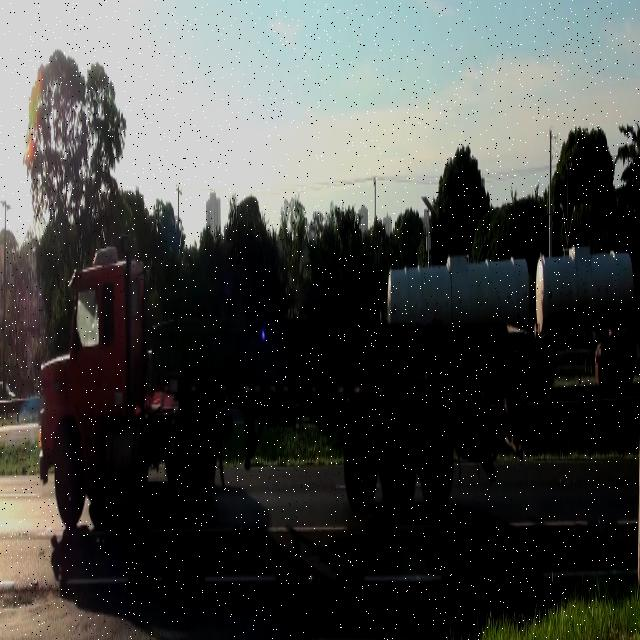-axle: (343, 410, 378, 520), (381, 411, 415, 511), (419, 410, 453, 509), (165, 422, 202, 508), (54, 427, 82, 524)
